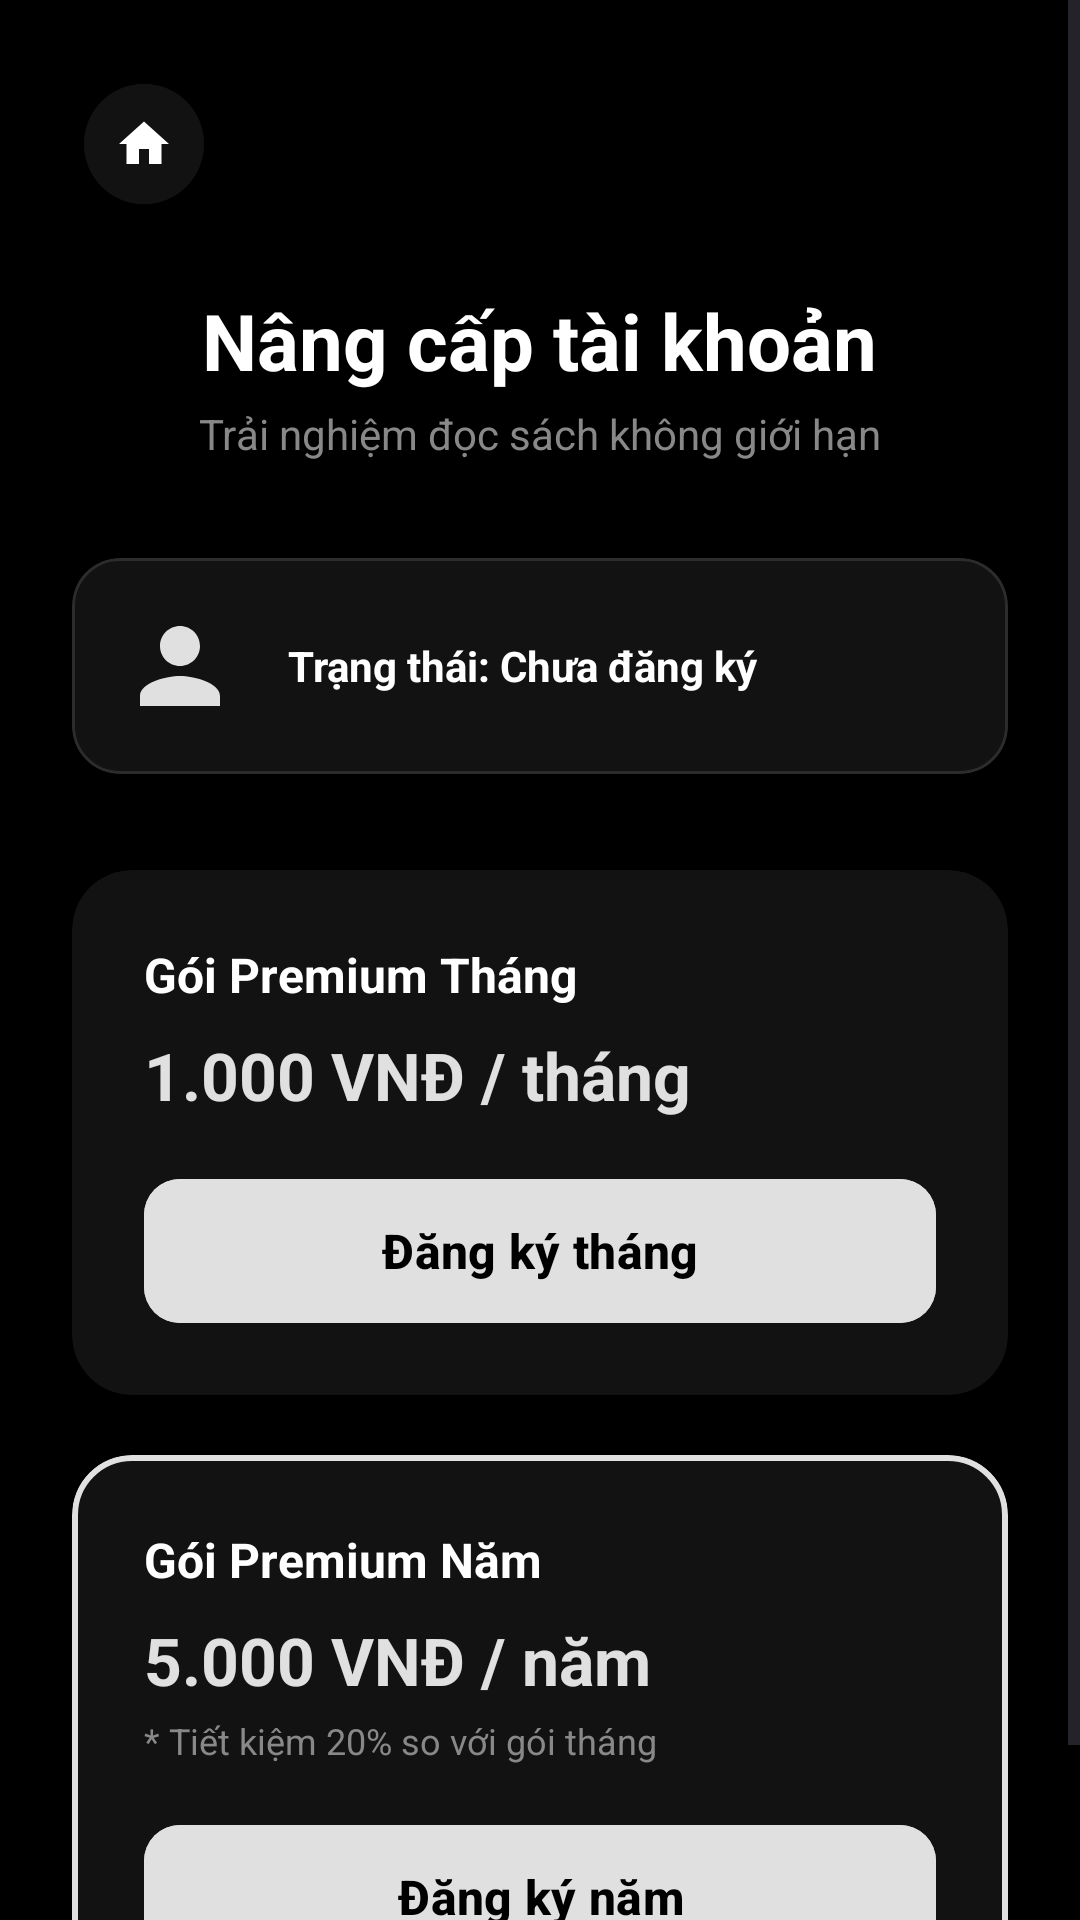

Icon bounding boxes for this 1080 × 1920 phone screenshot, format (x1, y1, x2, y2):
home: (119, 121, 169, 164)
user: (140, 626, 220, 706)
